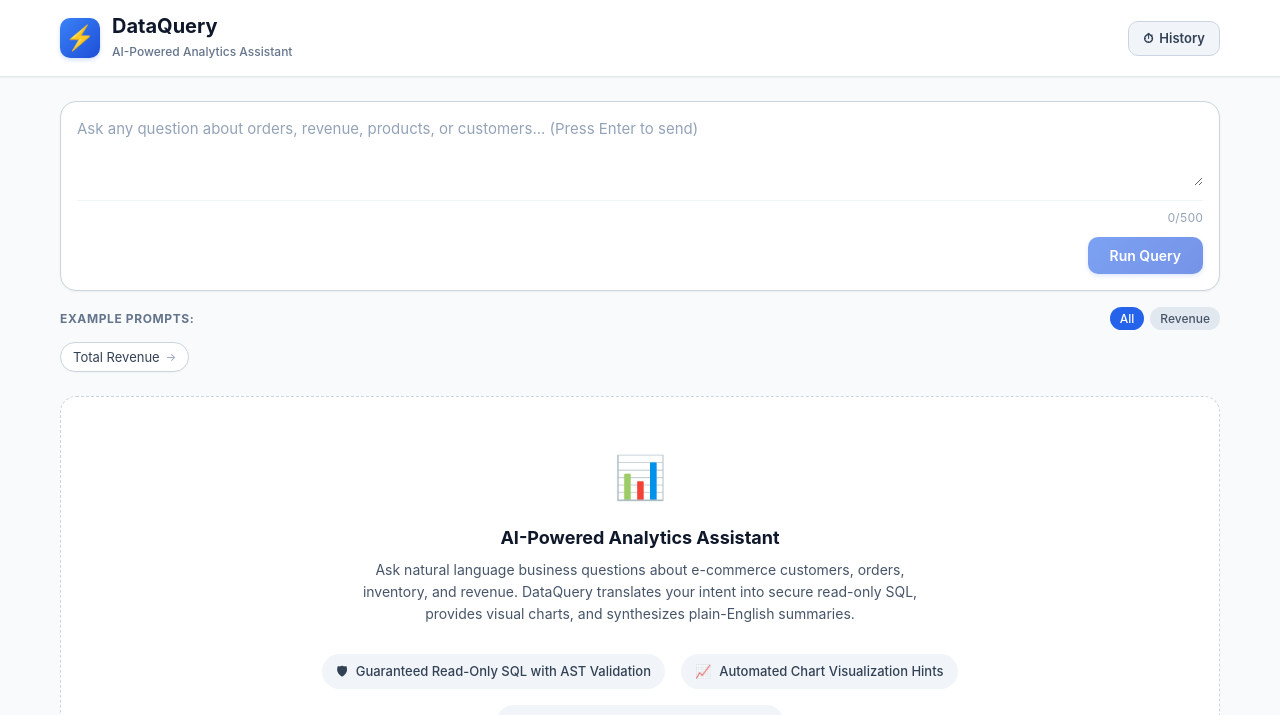
Test: App Integration › opens history panel, displays audit items, and re-fills query on click
The width and height of the screenshot is (1280, 715).
Expected: the text "Total Revenue" is shown, [73,348,160,364]
# Click History button in header
Click the button with aria-label "Open Query History Panel": point(1174, 38) [1128,20,1220,56]
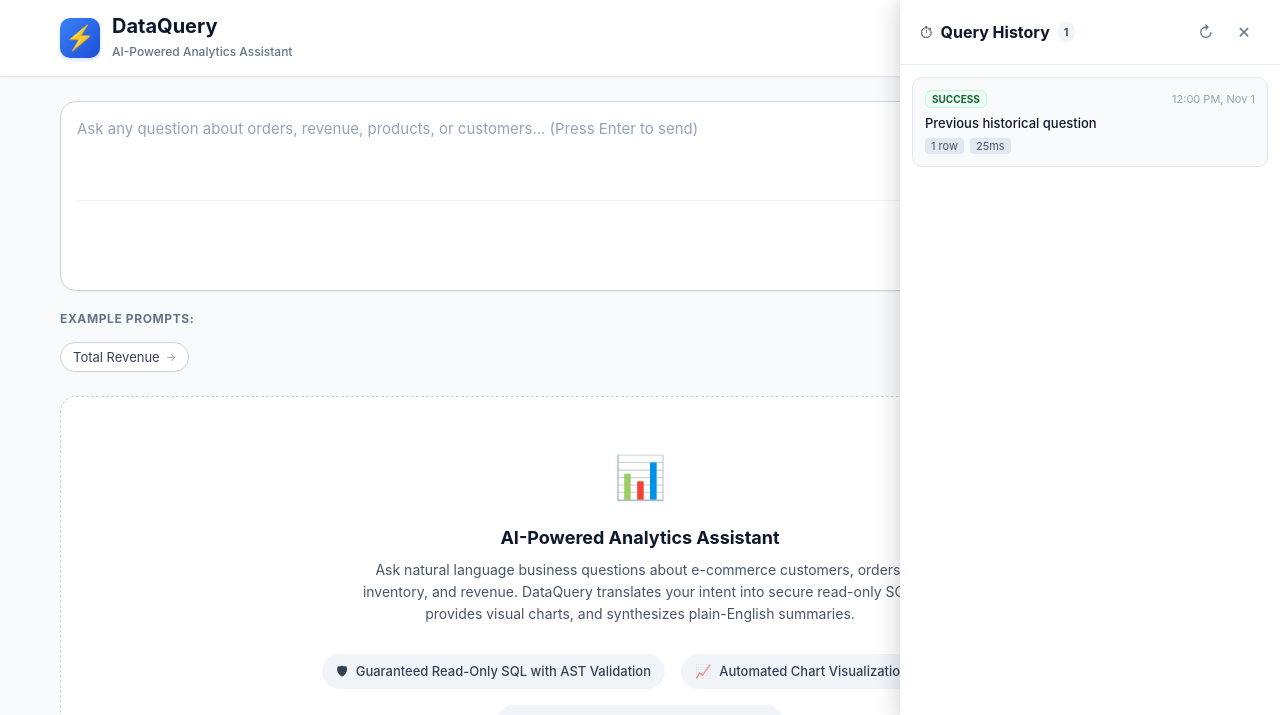
Result: the text "Previous historical question" is shown
# Click history item
Click the text "Previous historical question": point(1011, 123) [925,115,1097,131]
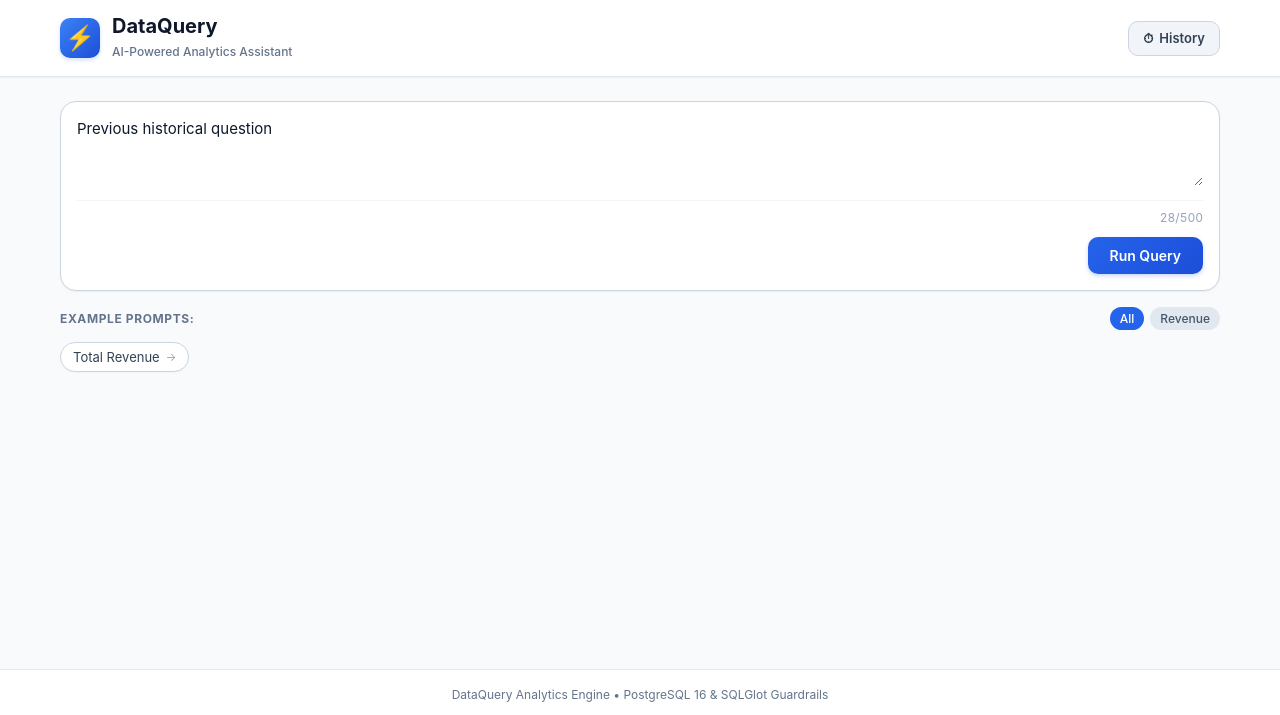
Result: the text box holds "Previous historical question" at [77,118,1203,186]
